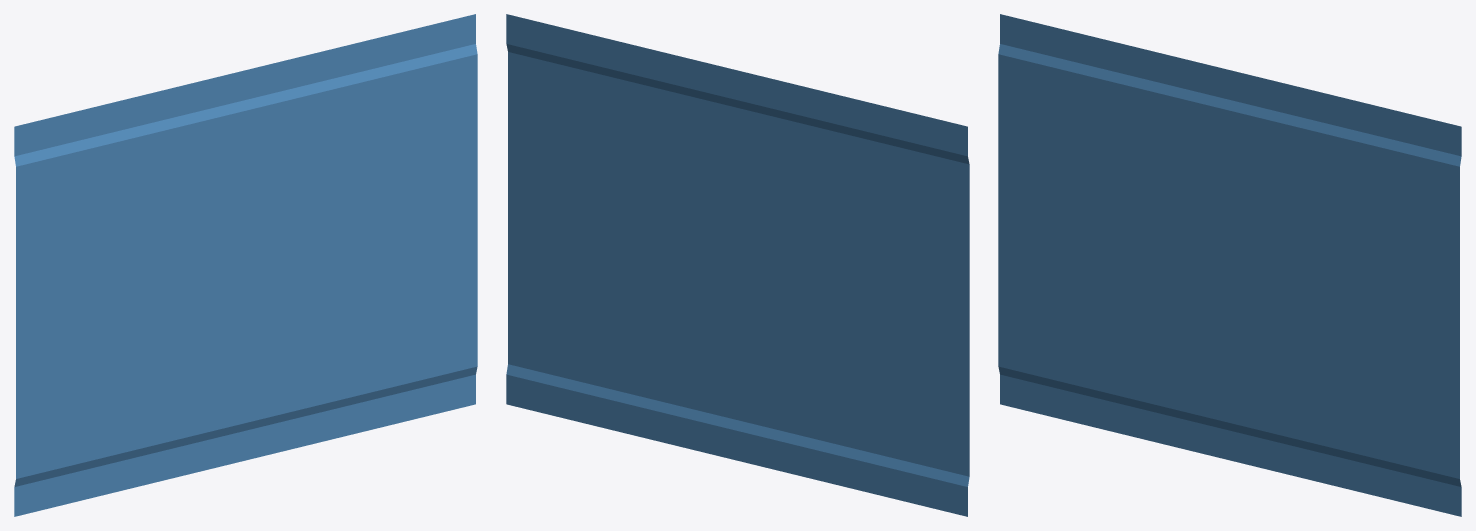
Rendered from OM_BedWall.fbx.
3 renders of one model, left to right at view 1: azimuth 30°, elevation 25°; view 2: azimuth 150°, elevation 25°; view 3: azimuth 330°, elevation 25°, orthographic.
Parts seen in each view (by area): view 1: pPlane3; view 2: pPlane3; view 3: pPlane3.
Boxes of the visible parts, <box> form: pPlane3: <box>14,14,477,516</box>; pPlane3: <box>506,14,969,516</box>; pPlane3: <box>998,14,1461,516</box>.
Bounding box in the file's own units: 433 × 350 × 2.6.
